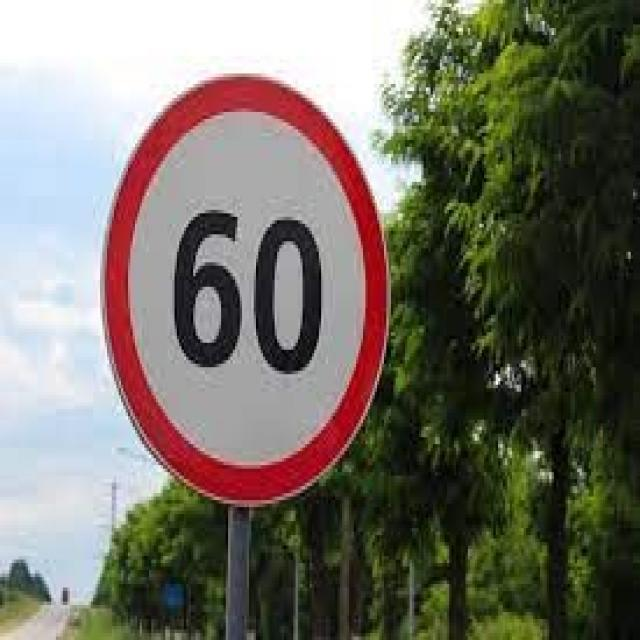speed_limit_60: (95, 68, 402, 510)
